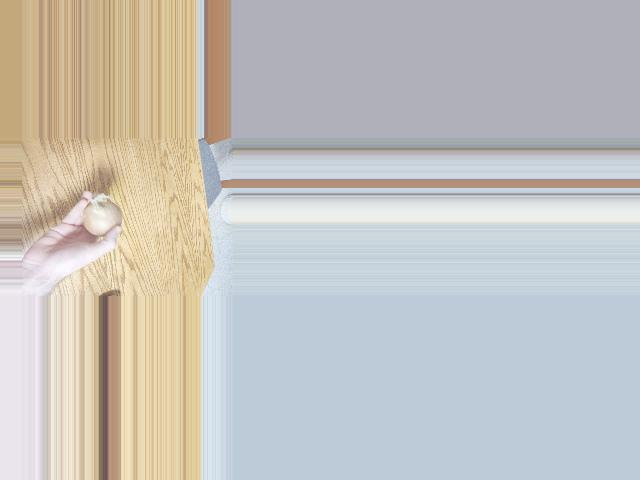onion: (79, 201, 122, 237)
